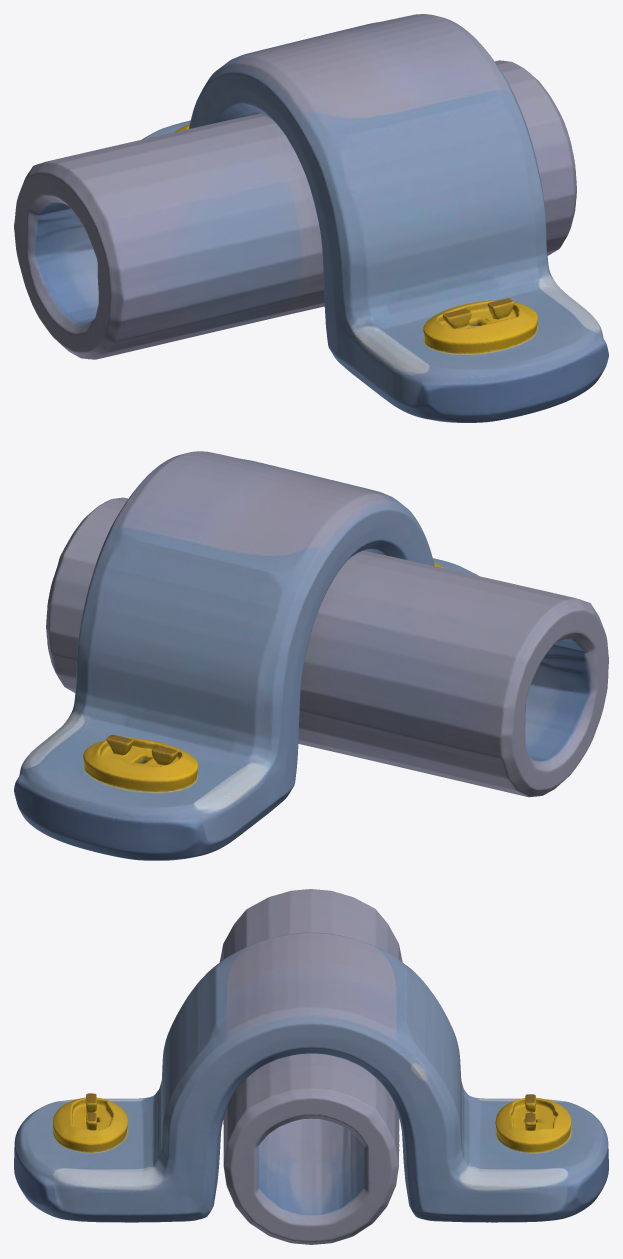
The model's file is PipeClamp.glb.
3 renders of one model, top to bottom at view 1: azimuth 30°, elevation 25°; view 2: azimuth 150°, elevation 25°; view 3: azimuth 270°, elevation 25°, orthographic. The views are drawn at different scales.
Visible parts, largest first — view 1: tripo_node_7add95ac-458c-46a4-b6ed-fc3a486aa91a; view 2: tripo_node_7add95ac-458c-46a4-b6ed-fc3a486aa91a; view 3: tripo_node_7add95ac-458c-46a4-b6ed-fc3a486aa91a.
Part boxes in pixels (x1,y1,x2,y2): tripo_node_7add95ac-458c-46a4-b6ed-fc3a486aa91a: (14,14,608,422); tripo_node_7add95ac-458c-46a4-b6ed-fc3a486aa91a: (14,451,608,860); tripo_node_7add95ac-458c-46a4-b6ed-fc3a486aa91a: (14,889,608,1244).
Bounding box in the file's own units: 0.7889 × 0.439 × 1.
1 material, 1 textured.
